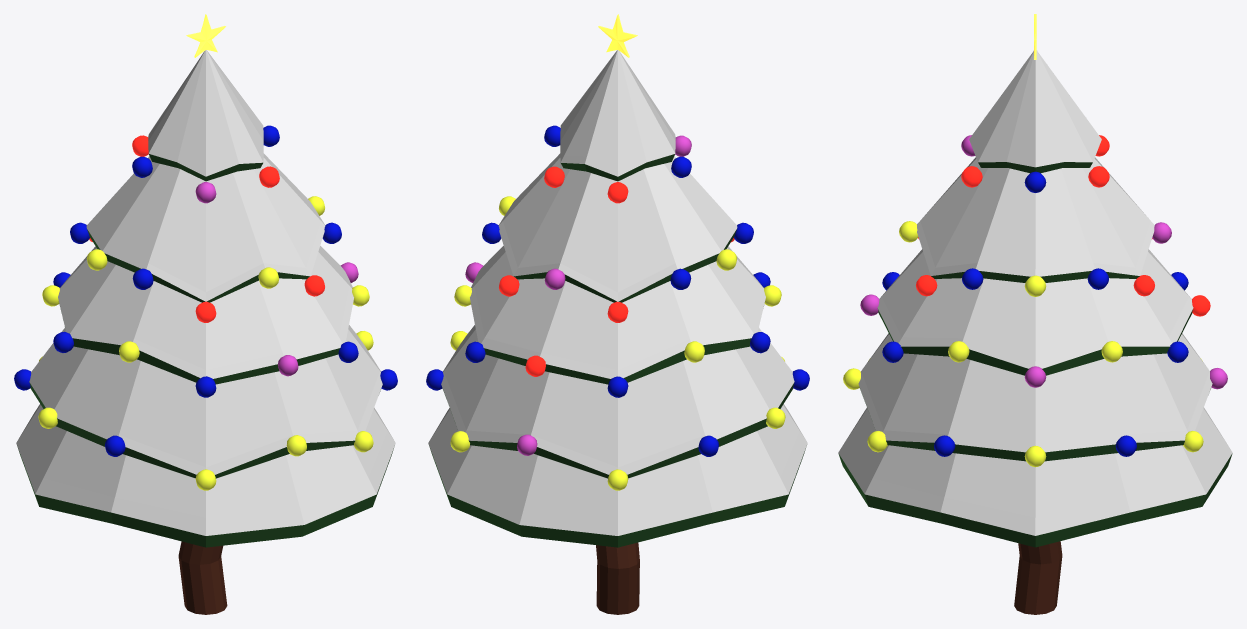
Rendered from елка_4.fbx.
The picture shows the model from 3 angles, left to right: view 1: azimuth 30°, elevation 25°; view 2: azimuth 150°, elevation 25°; view 3: azimuth 270°, elevation 25°; orthographic projection.
Visible parts, largest first — view 1: елка_2.002; view 2: елка_2.002; view 3: елка_2.002.
Part boxes in pixels (box(x1,y1,x2,y2)): елка_2.002: box(14, 14, 397, 614); елка_2.002: box(426, 14, 809, 614); елка_2.002: box(838, 14, 1232, 614).
Size of the model in its own units: 191 by 316 by 191.
